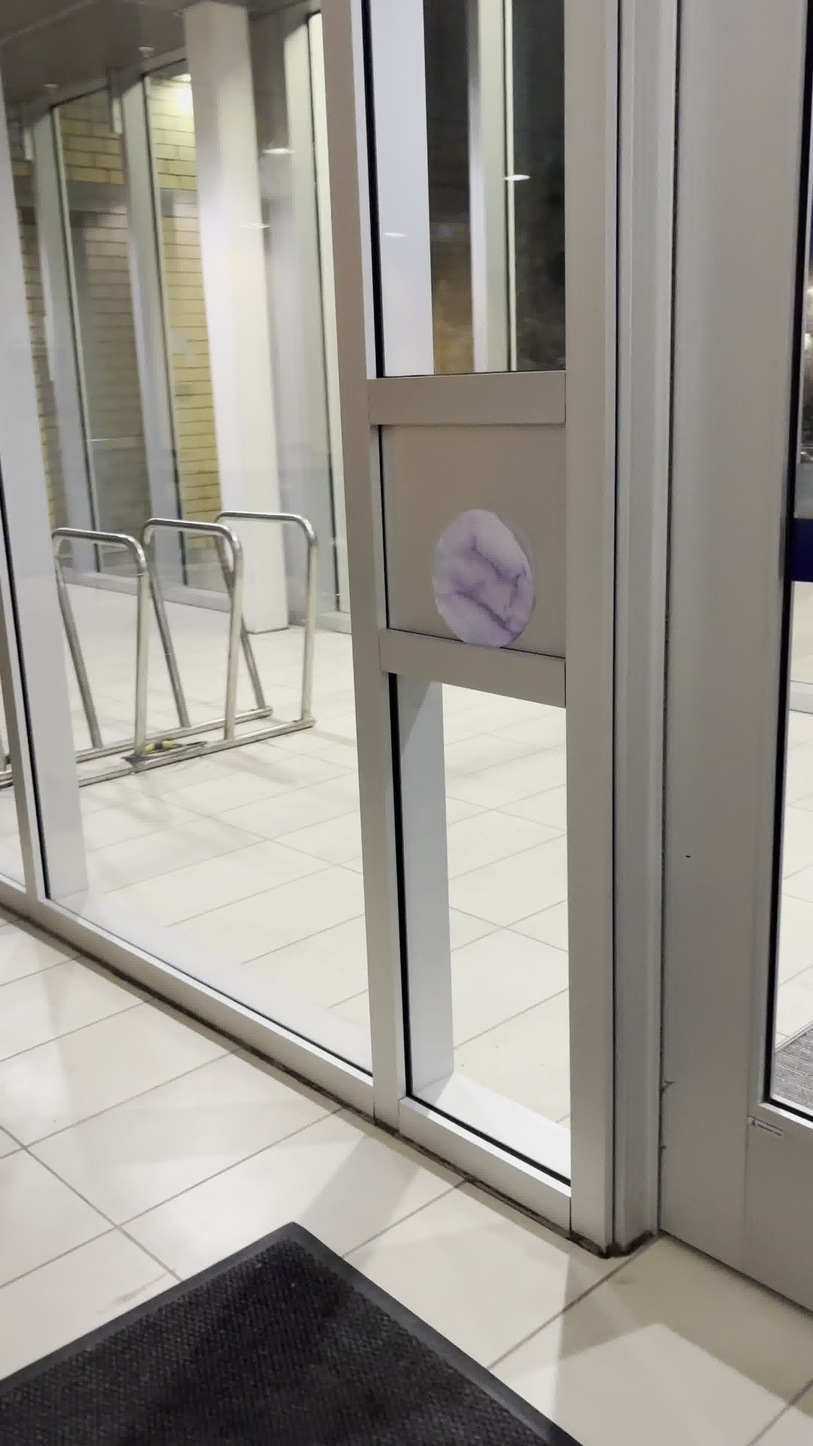Target: (427, 506, 537, 647)
